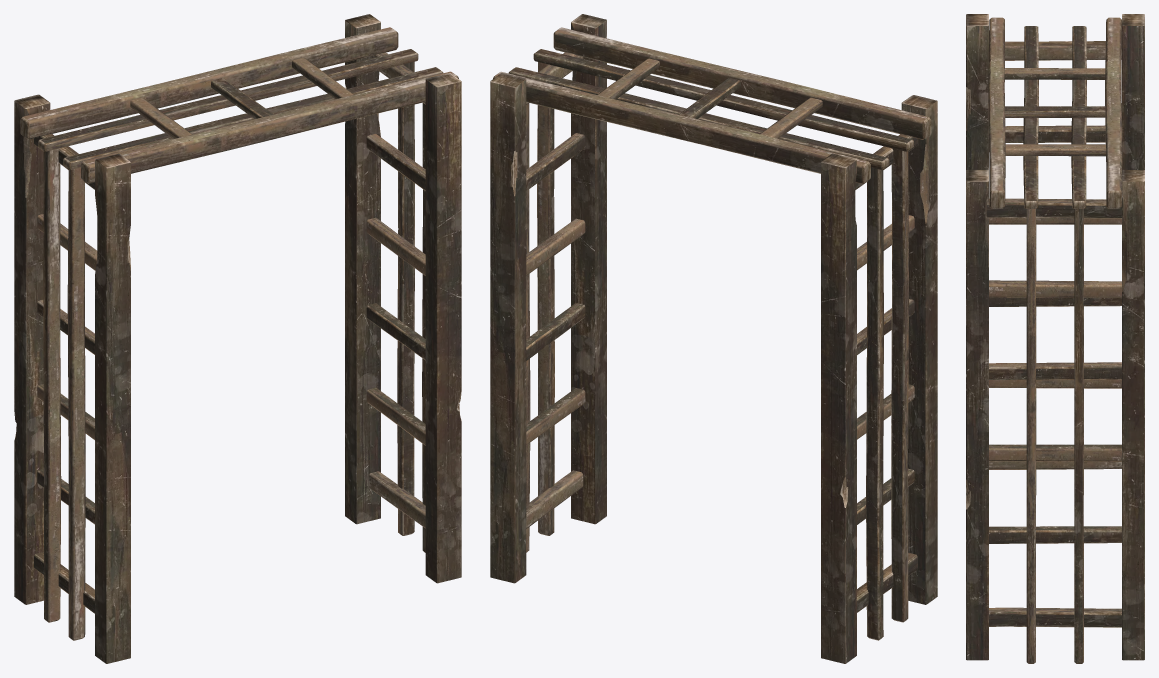
3 renders of one model, left to right at view 1: azimuth 30°, elevation 25°; view 2: azimuth 150°, elevation 25°; view 3: azimuth 270°, elevation 25°, orthographic. The views are drawn at different scales.
Parts seen in each view (by area): view 1: SM_Village_Garden_Frame_01_LOD0; view 2: SM_Village_Garden_Frame_01_LOD0; view 3: SM_Village_Garden_Frame_01_LOD0.
Part boxes in pixels (x1,y1,x2,y2): SM_Village_Garden_Frame_01_LOD0: (14,14,461,663); SM_Village_Garden_Frame_01_LOD0: (490,14,937,663); SM_Village_Garden_Frame_01_LOD0: (966,14,1144,663).
Size of the model in its own units: 2.31 by 2.93 by 0.9905.
1 material, 1 textured.
